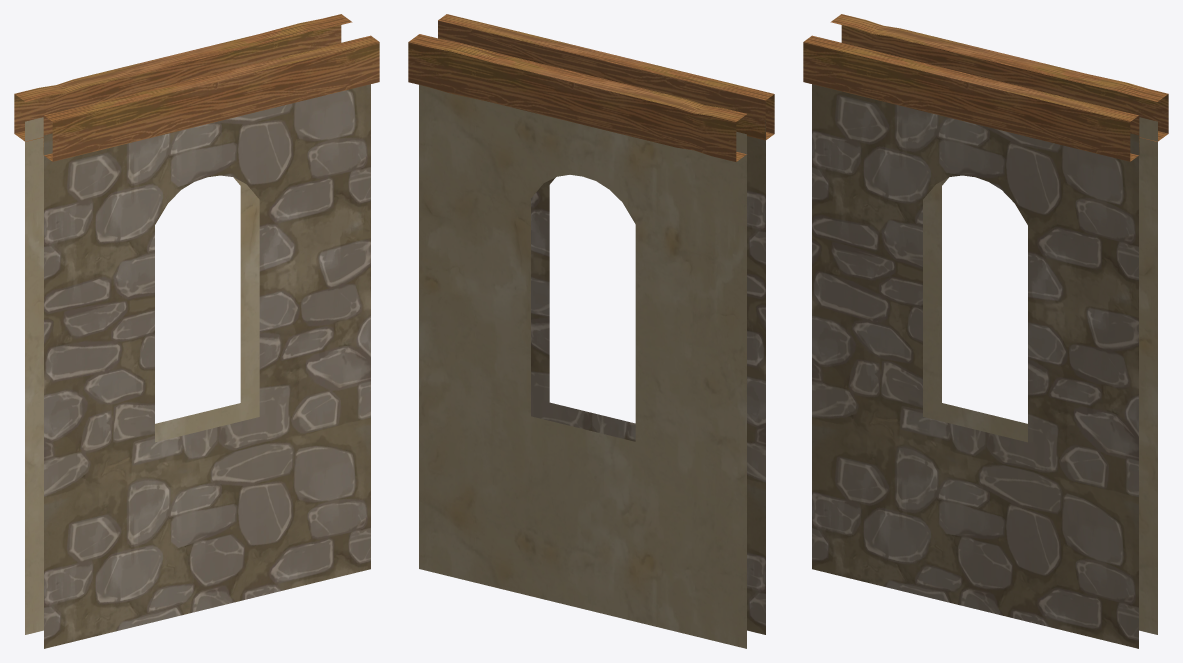
The model's file is Wall_UnevenBrick_Window_Thin_Round.gltf.
3 views of the same model, side by side, from view 1: azimuth 30°, elevation 25°; view 2: azimuth 150°, elevation 25°; view 3: azimuth 330°, elevation 25° (orthographic).
Visible parts, largest first — view 1: Wall_UnevenBrick_Window_Thin_Round; view 2: Wall_UnevenBrick_Window_Thin_Round; view 3: Wall_UnevenBrick_Window_Thin_Round.
Boxes of the visible parts, x1=… form: Wall_UnevenBrick_Window_Thin_Round: x1=14, y1=14, x2=379, y2=648; Wall_UnevenBrick_Window_Thin_Round: x1=408, y1=14, x2=774, y2=648; Wall_UnevenBrick_Window_Thin_Round: x1=803, y1=14, x2=1168, y2=648.
Bounding box in the file's own units: 2 × 3.12 × 0.4065.
Materials: 3 (3 with a texture image).
